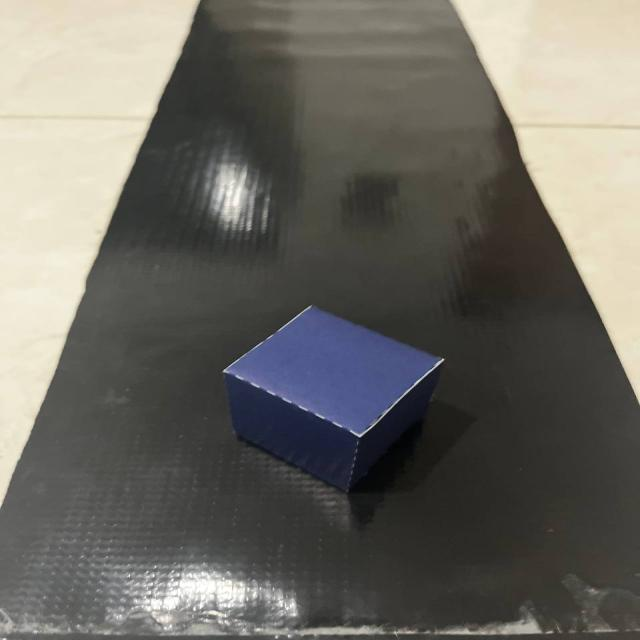Azul: (207, 291, 465, 504)
